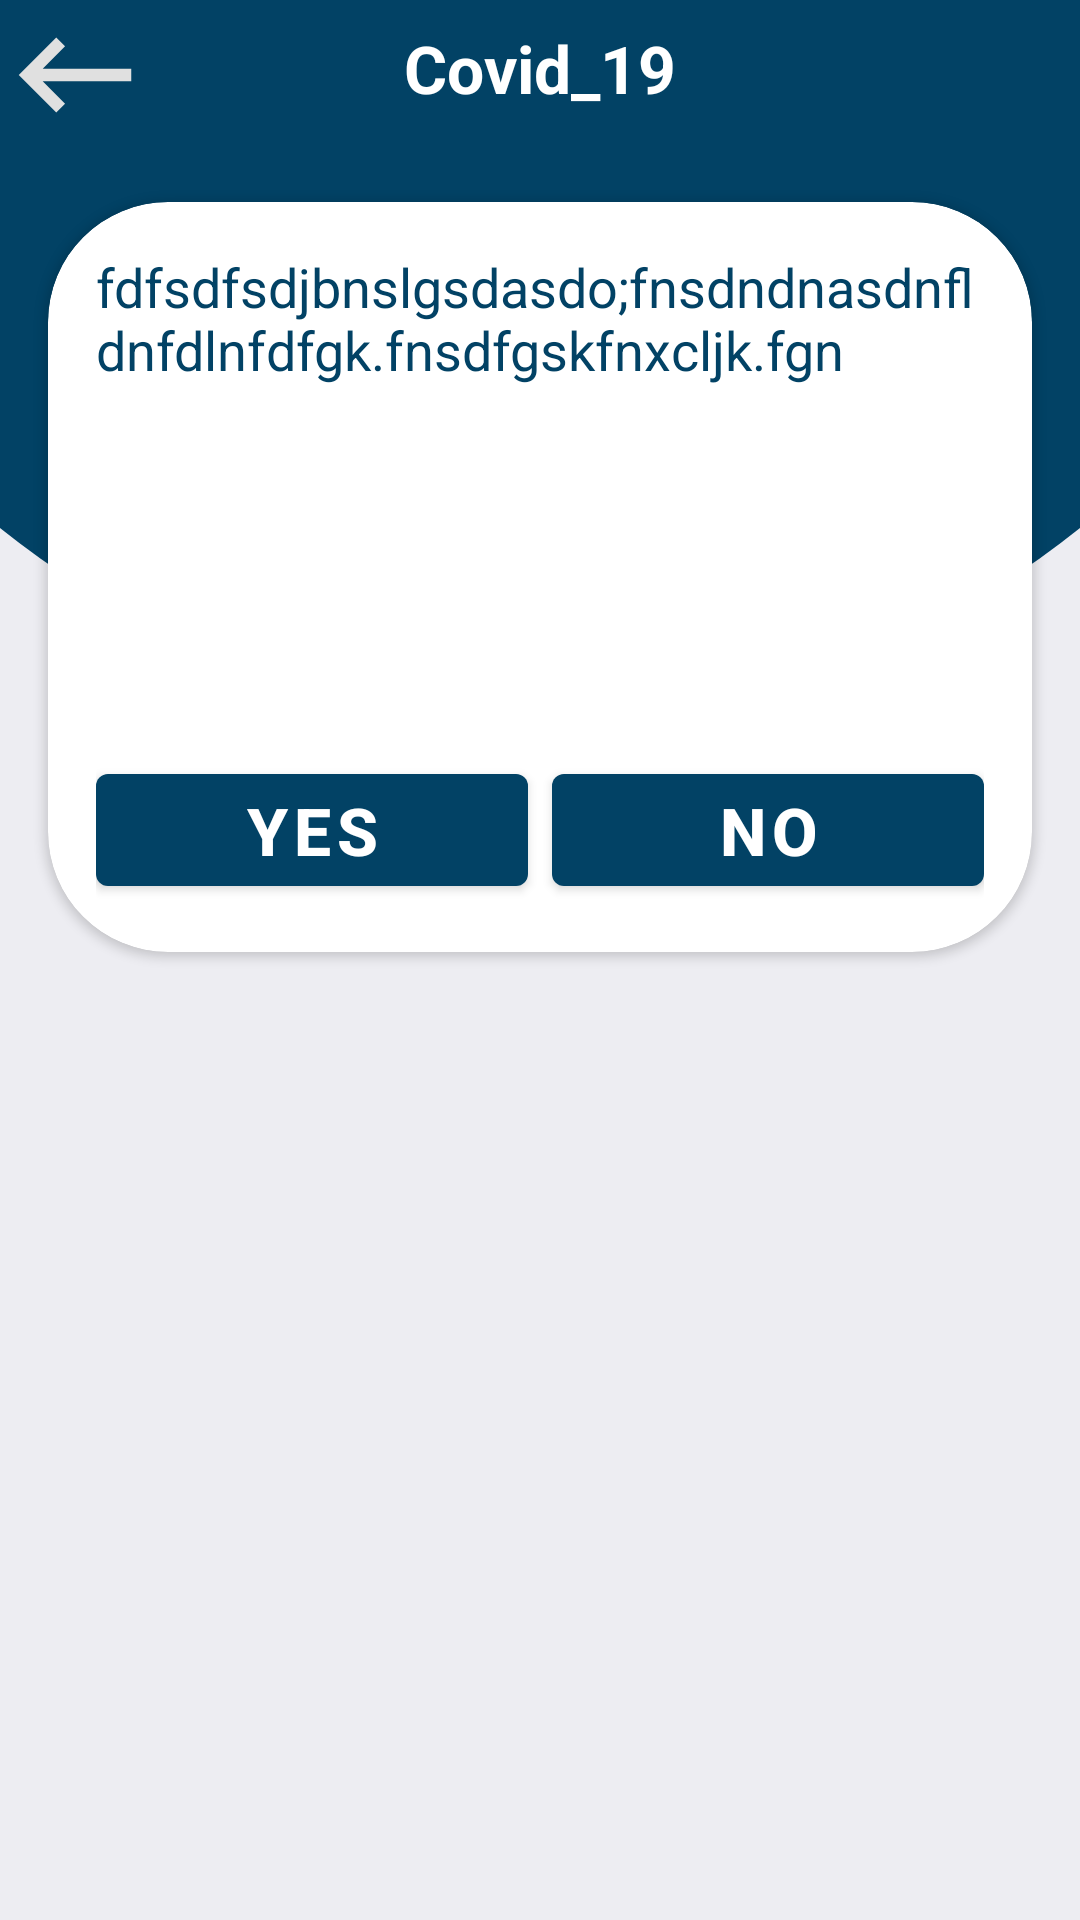

Icons on this 1080x1920 Android screen, each with its box as (x1, y1, x2, y2):
keyboard backspace: (19, 37, 132, 113)
